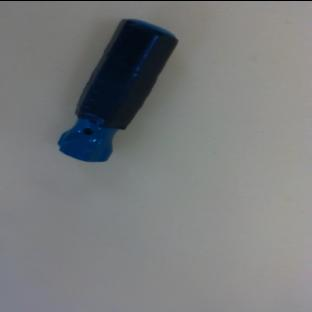part_2_bad: (52, 8, 180, 174)
